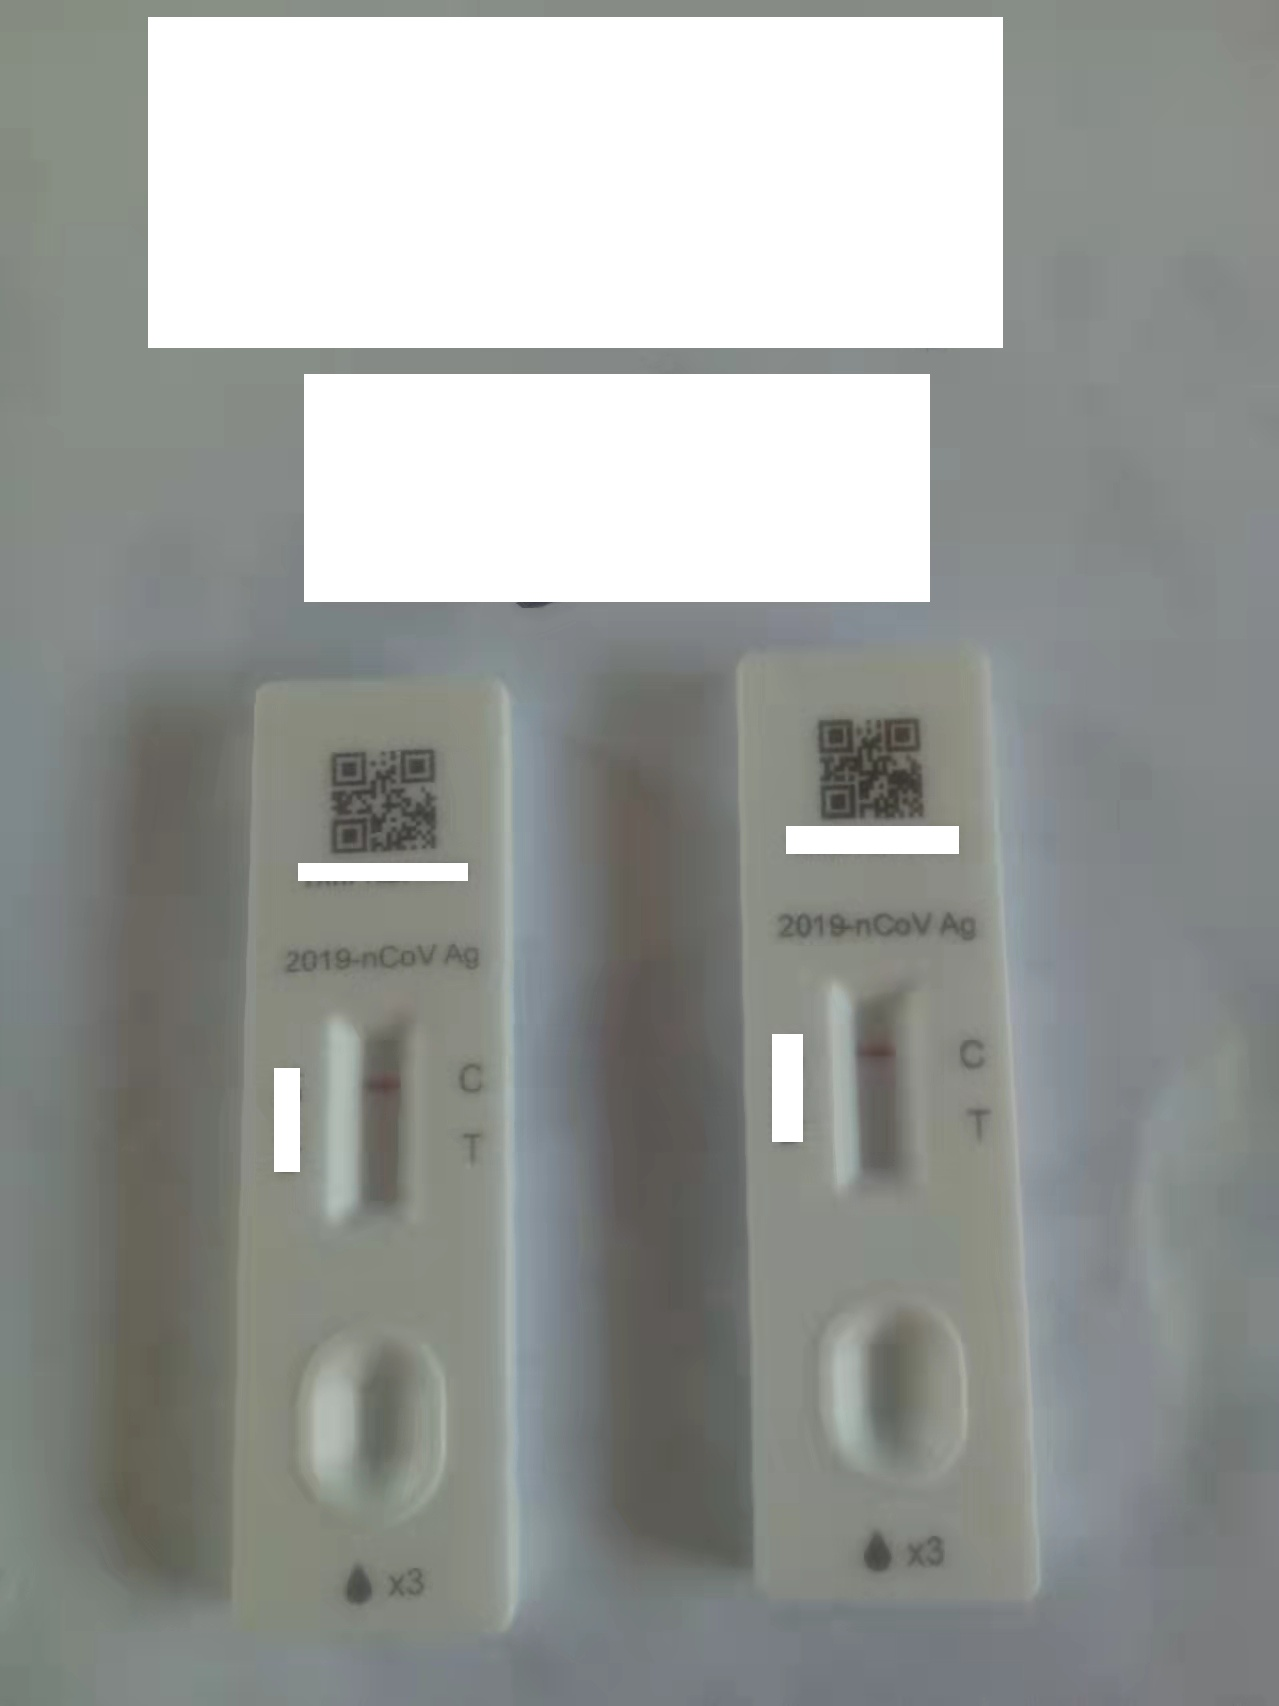negative: (829, 975, 922, 1204), (325, 1012, 421, 1230)
